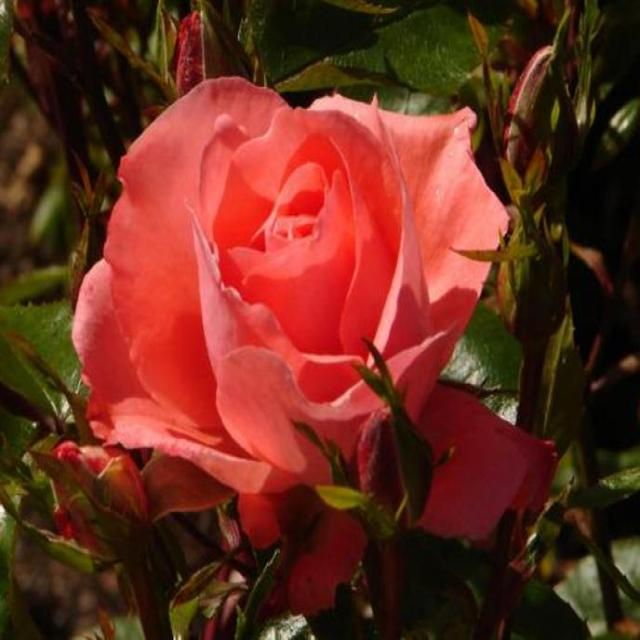rose: (68, 76, 508, 568)
